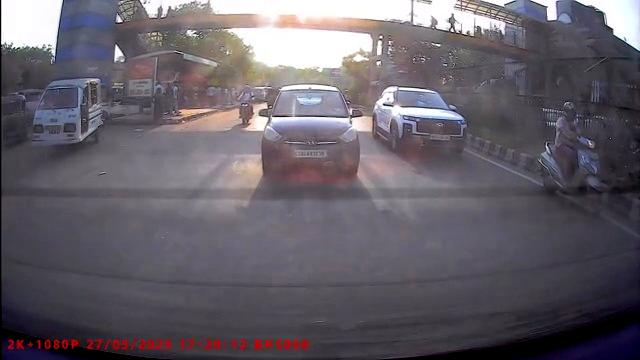motorcycle_with_helmet: (538, 98, 607, 218), (237, 80, 254, 125)
